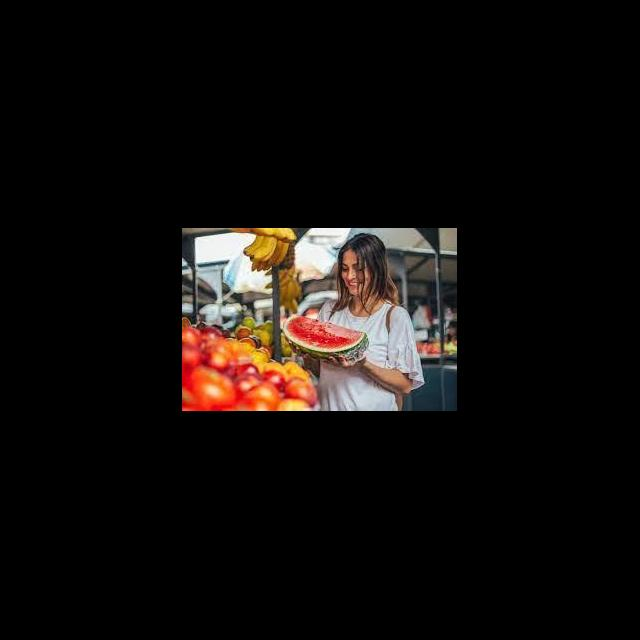watermelon: (284, 314, 371, 364)
